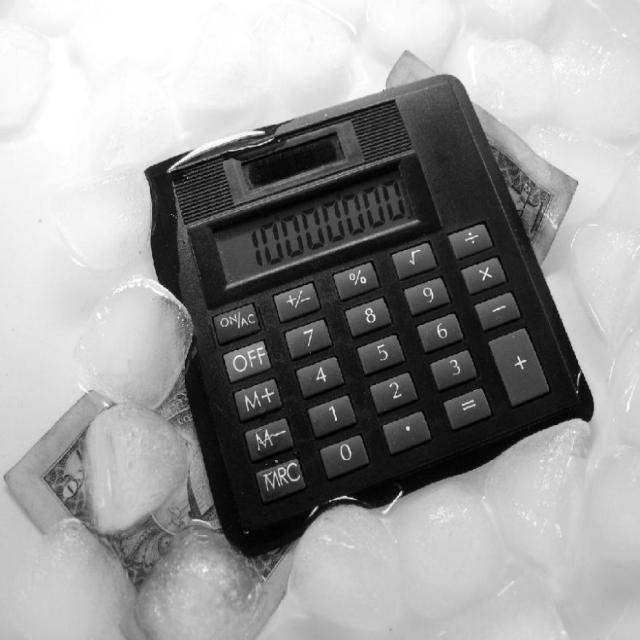Calculator: (145, 68, 600, 561)
